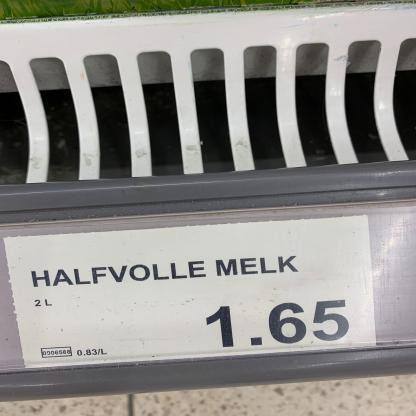prtg: (6, 216, 377, 369)
